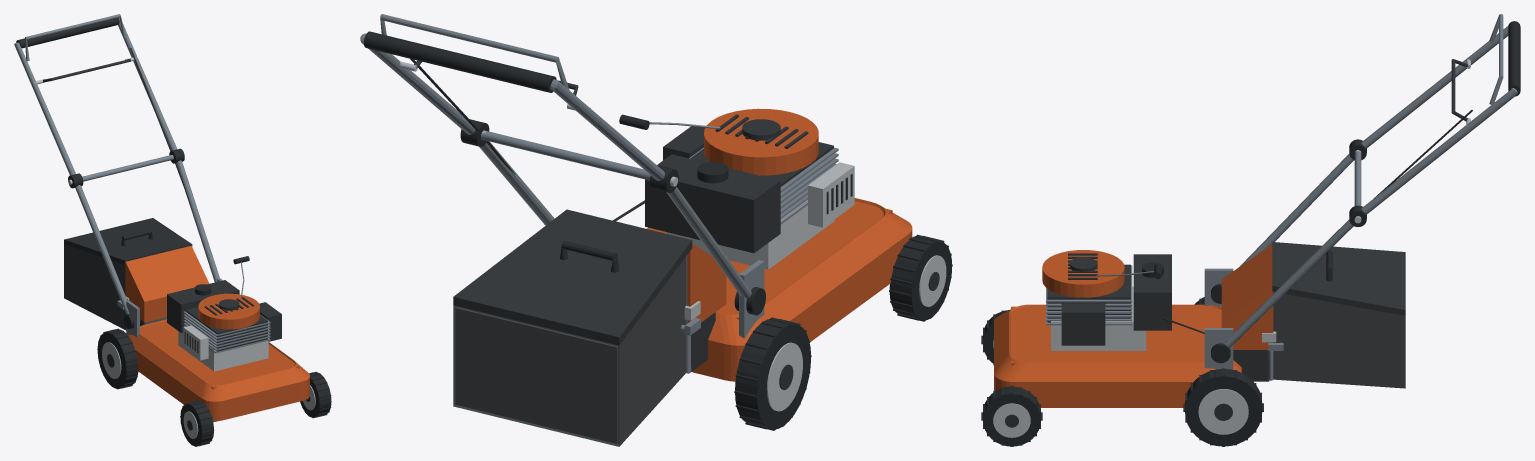
3 renders of one model, left to right at view 1: azimuth 30°, elevation 25°; view 2: azimuth 150°, elevation 25°; view 3: azimuth 270°, elevation 25°, orthographic. The views are drawn at different scales.
Visible parts, largest first — view 1: Deck_hollow_inverted_bowl, Rear_discharge_upper_hood, Collector_fabric_open_neck, Collector_lid, Deck_roof, Upper_walking_handle_U, Recoil_cover, Tire_rear-1, Fuel_tank, Engine_crankcase, Cylinder_block, Lower_handle_rail-1 (+10 smaller); view 2: Collector_lid, Collector_rear_fabric, Deck_hollow_inverted_bowl, Collector_fabric_open_neck, Fuel_tank, Recoil_cover, Tire_rear-1, Deck_roof, Walking_grip, Upper_walking_handle_U, Tire_front-1, Engine_crankcase (+15 smaller); view 3: Collector_fabric_open_neck, Deck_hollow_inverted_bowl, Collector_lid, Deck_roof, Rear_discharge_upper_hood, Upper_walking_handle_U, Tire_rear1, Recoil_cover, Fuel_tank, Air_filter, Tire_front1, Engine_crankcase (+10 smaller).
Boxes of the visible parts, bbox=[...] form: Deck_hollow_inverted_bowl: bbox=[127, 319, 309, 421]; Rear_discharge_upper_hood: bbox=[125, 245, 209, 322]; Collector_fabric_open_neck: bbox=[64, 244, 166, 330]; Collector_lid: bbox=[64, 218, 192, 264]; Deck_roof: bbox=[140, 321, 299, 389]; Upper_walking_handle_U: bbox=[14, 18, 177, 175]; Recoil_cover: bbox=[198, 293, 259, 329]; Tire_rear-1: bbox=[97, 329, 138, 388]; Fuel_tank: bbox=[167, 280, 239, 332]; Engine_crankcase: bbox=[178, 331, 268, 371]; Cylinder_block: bbox=[186, 307, 267, 351]; Lower_handle_rail-1: bbox=[75, 185, 129, 314]; Collector_lid: bbox=[453, 209, 692, 345]; Collector_rear_fabric: bbox=[455, 307, 618, 443]; Deck_hollow_inverted_bowl: bbox=[646, 198, 912, 381]; Collector_fabric_open_neck: bbox=[453, 256, 686, 446]; Fuel_tank: bbox=[645, 154, 780, 253]; Recoil_cover: bbox=[704, 108, 818, 175]; Tire_rear-1: bbox=[735, 319, 810, 429]; Deck_roof: bbox=[651, 201, 892, 319]; Walking_grip: bbox=[364, 31, 556, 92]; Upper_walking_handle_U: bbox=[360, 33, 664, 180]; Tire_front-1: bbox=[889, 236, 952, 320]; Engine_crankcase: bbox=[666, 200, 834, 269]; Collector_fabric_open_neck: bbox=[1273, 292, 1405, 388]; Deck_hollow_inverted_bowl: bbox=[994, 304, 1241, 407]; Collector_lid: bbox=[1272, 242, 1405, 315]; Deck_roof: bbox=[1011, 306, 1221, 365]; Rear_discharge_upper_hood: bbox=[1221, 244, 1273, 349]; Upper_walking_handle_U: bbox=[1361, 26, 1517, 214]; Tire_rear1: bbox=[1185, 369, 1262, 446]; Recoil_cover: bbox=[1042, 250, 1124, 297]; Fuel_tank: bbox=[1133, 254, 1171, 330]; Air_filter: bbox=[1061, 303, 1105, 345]; Tire_front1: bbox=[983, 386, 1040, 446]; Engine_crankcase: bbox=[1051, 286, 1146, 350].
Bounding box in the file's own units: 0.535 × 1.04 × 1.41.
